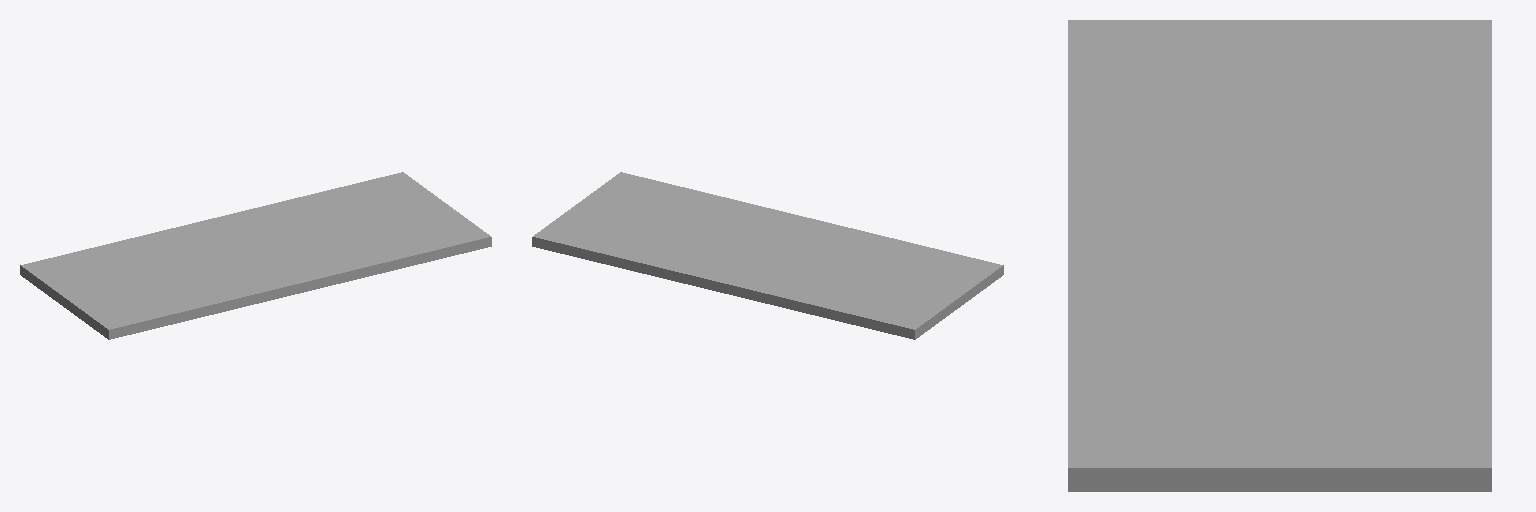
robot.urdf — table1:
<robot name="table1">
  <link name="table1_base_link">
    <visual>
      <origin rpy="0 0 3.14159" xyz="0.2 -0.52 -0.16"/>
      <geometry>
        <mesh filename="../meshes/table1.obj"  scale="0.0005 0.0005 0.0005"/>
      </geometry>
      <material name="tray_material">
        <color rgba="0.7 0.7 0.7 1"/>
      </material>
    </visual>
    <collision>
      <origin rpy="0 0 3.14159" xyz="0.2 -0.52 -0.16"/>
      <geometry>
        <mesh filename="../meshes/table1.obj" scale="0.0005 0.0005 0.0005"/>
      </geometry>
    </collision>
  </link>
</robot>

--- Facts derived from the render (not from the file) ---
3 views of the same robot in one strip: view 1: azimuth 30°, elevation 25°; view 2: azimuth 150°, elevation 25°; view 3: azimuth 270°, elevation 25° (orthographic).
Model table1 with 1 links and 0 joints (none), rooted at table1_base_link, posed every joint at zero.
Visible links, largest first — view 1: table1_base_link; view 2: table1_base_link; view 3: table1_base_link.
Boxes of the visible links, x1,y1,x2,y2 form: table1_base_link: [20, 172, 491, 339]; table1_base_link: [532, 172, 1003, 339]; table1_base_link: [1068, 20, 1491, 491].
Size in the robot's own frame: 1 by 0.4 by 0.025 metres.
Meshes: 1 distinct files referenced, 1 mesh visuals loaded (1 OBJ).